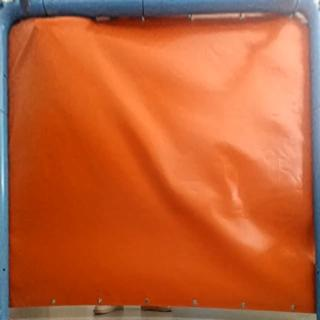Hit-hRxx: (29, 22, 43, 34)
